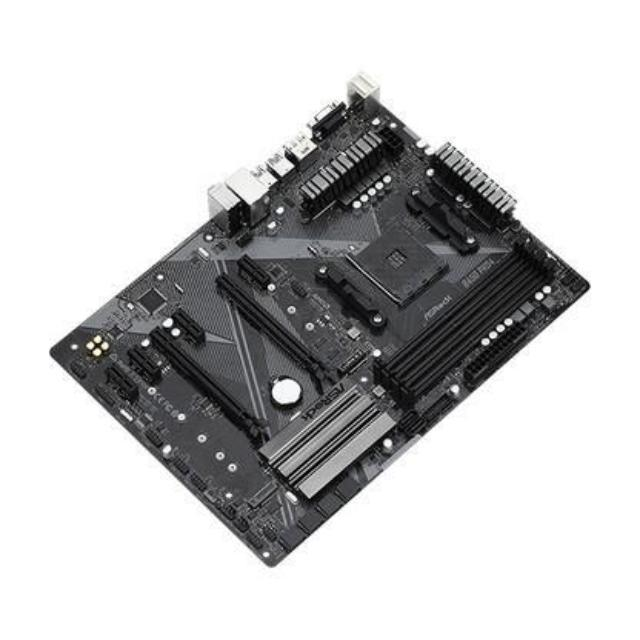Mainboard: (48, 74, 592, 572)
